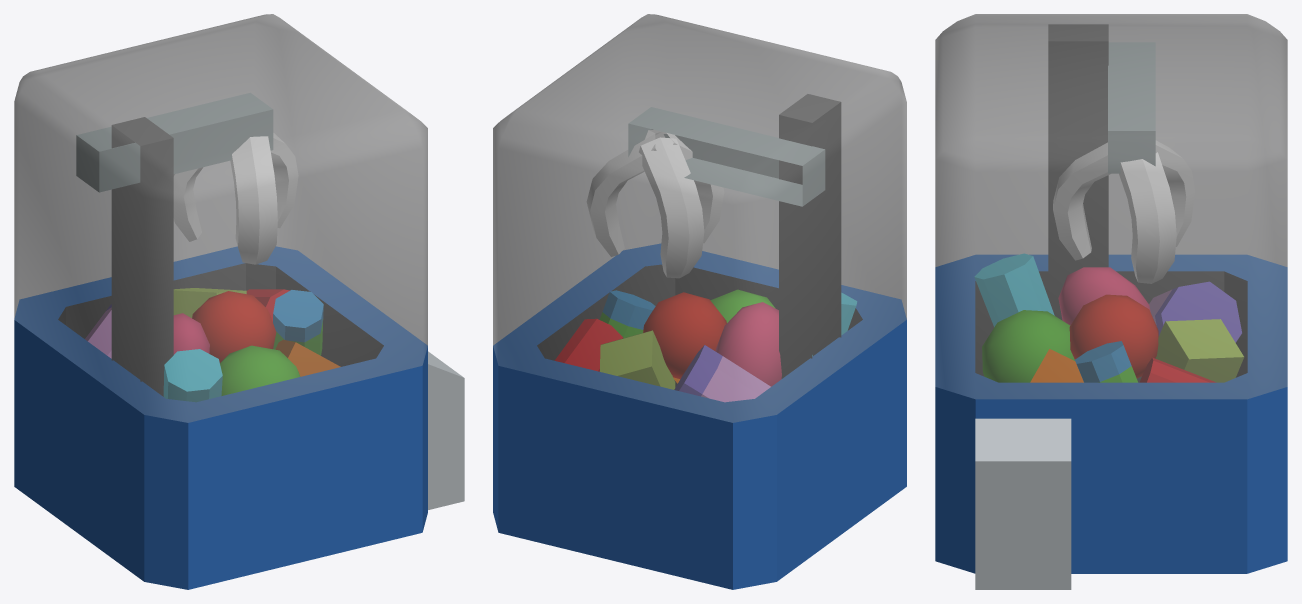
Rendered from slotmachine_s01.FBX.
3 renders of one model, left to right at view 1: azimuth 30°, elevation 25°; view 2: azimuth 150°, elevation 25°; view 3: azimuth 270°, elevation 25°, orthographic. The views are drawn at different scales.
Visible parts, largest first — view 1: slotmachine_s01; view 2: slotmachine_s01; view 3: slotmachine_s01.
Part boxes in pixels (x1,y1,x2,y2): slotmachine_s01: (14,14,464,589); slotmachine_s01: (493,14,906,589); slotmachine_s01: (935,14,1287,589).
Bounding box in the file's own units: 206 × 188 × 252.
2 materials, 1 textured.
